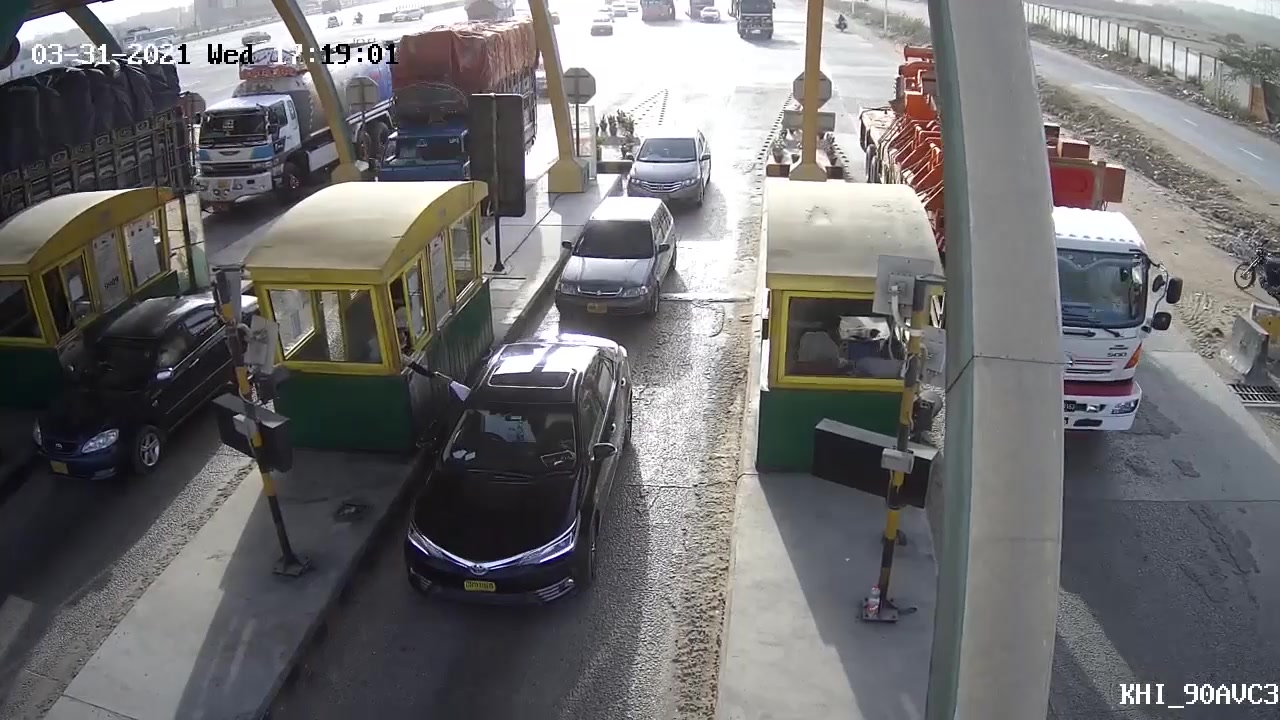F1: (390, 329, 635, 614), (559, 192, 676, 319), (627, 125, 718, 208)
